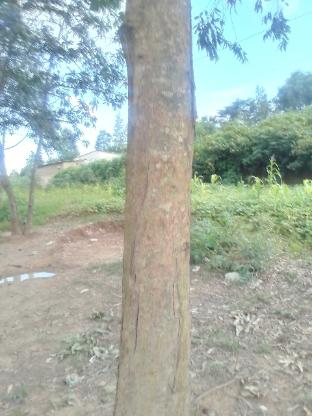tree: (98, 0, 215, 416)
